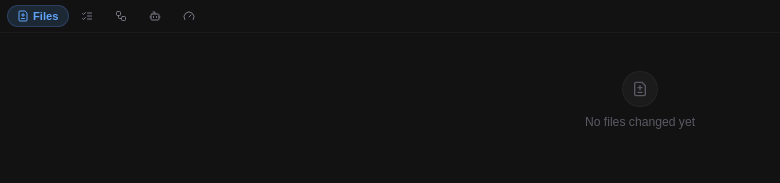
InspectorCard — the Usage tab says which absence it is showing › names the reason instead when the record could not be consulted
This screenshot has width=780, height=183.
Click the button named "Usage".
click(188, 16)  # box [172,5,204,27]
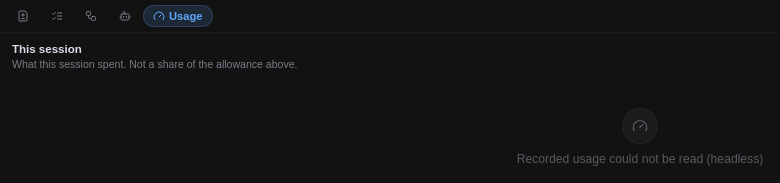
Check: the text "Recorded usage could not be read (headless)" is shown, box [517,108,763,166]
